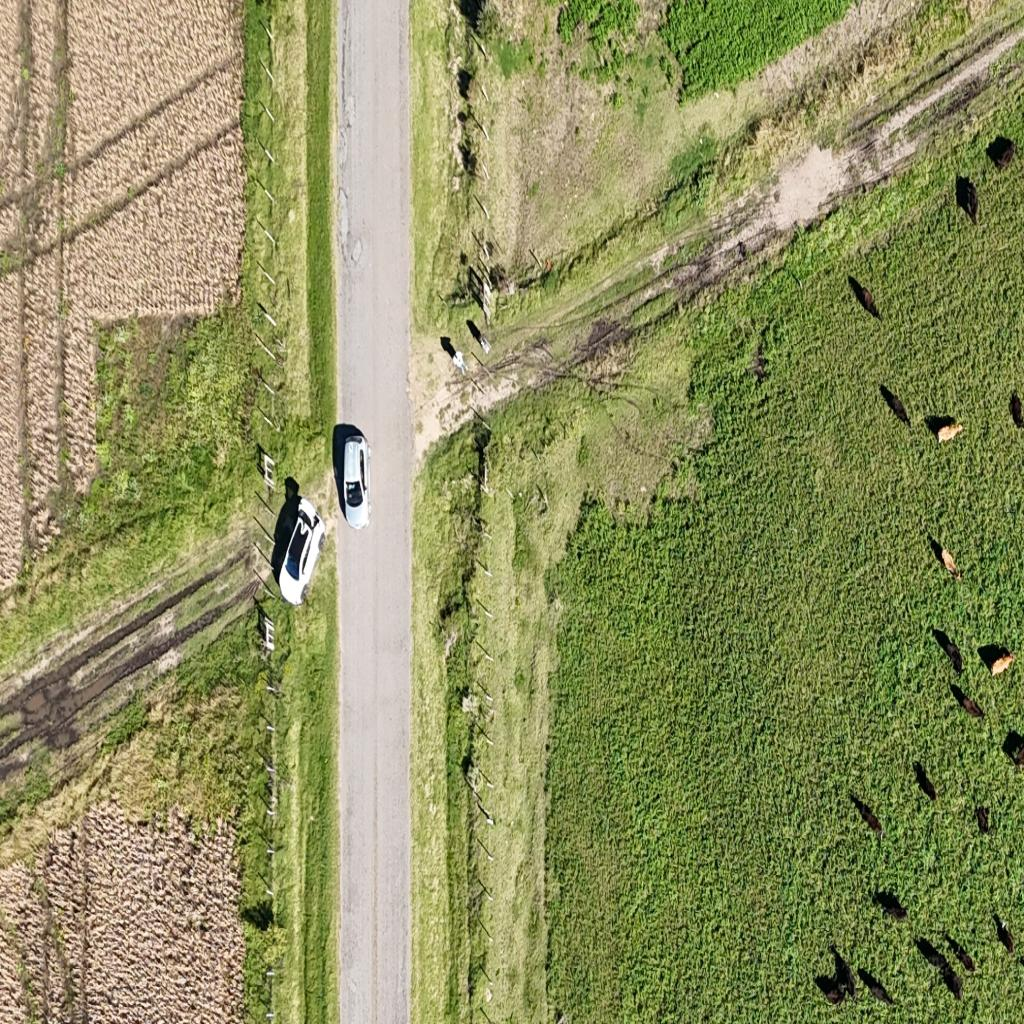cow: (932, 627, 964, 676), (848, 275, 881, 321), (832, 944, 858, 1002), (930, 537, 962, 583), (859, 968, 896, 1007), (880, 384, 912, 428), (944, 932, 976, 974), (955, 174, 980, 226), (979, 644, 1015, 680), (950, 683, 985, 720), (991, 909, 1016, 958), (986, 135, 1018, 172), (852, 794, 882, 833), (875, 889, 908, 922), (926, 414, 962, 444), (816, 973, 848, 1006), (913, 761, 938, 802), (1002, 729, 1024, 770), (943, 970, 968, 1004), (1008, 393, 1024, 429), (976, 802, 990, 834)
